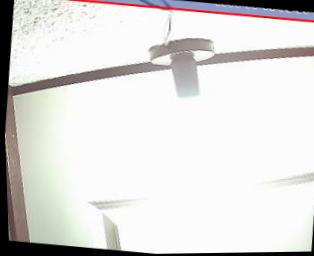TubeLight: (163, 122, 216, 176)
